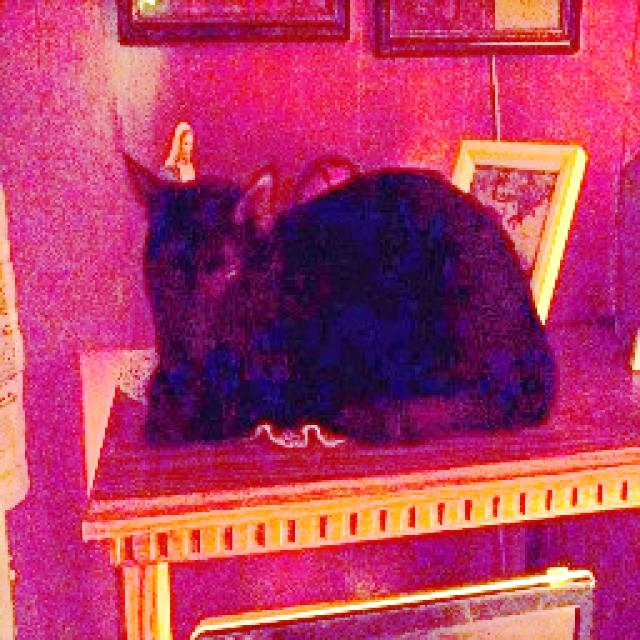cat: (114, 147, 566, 444)
